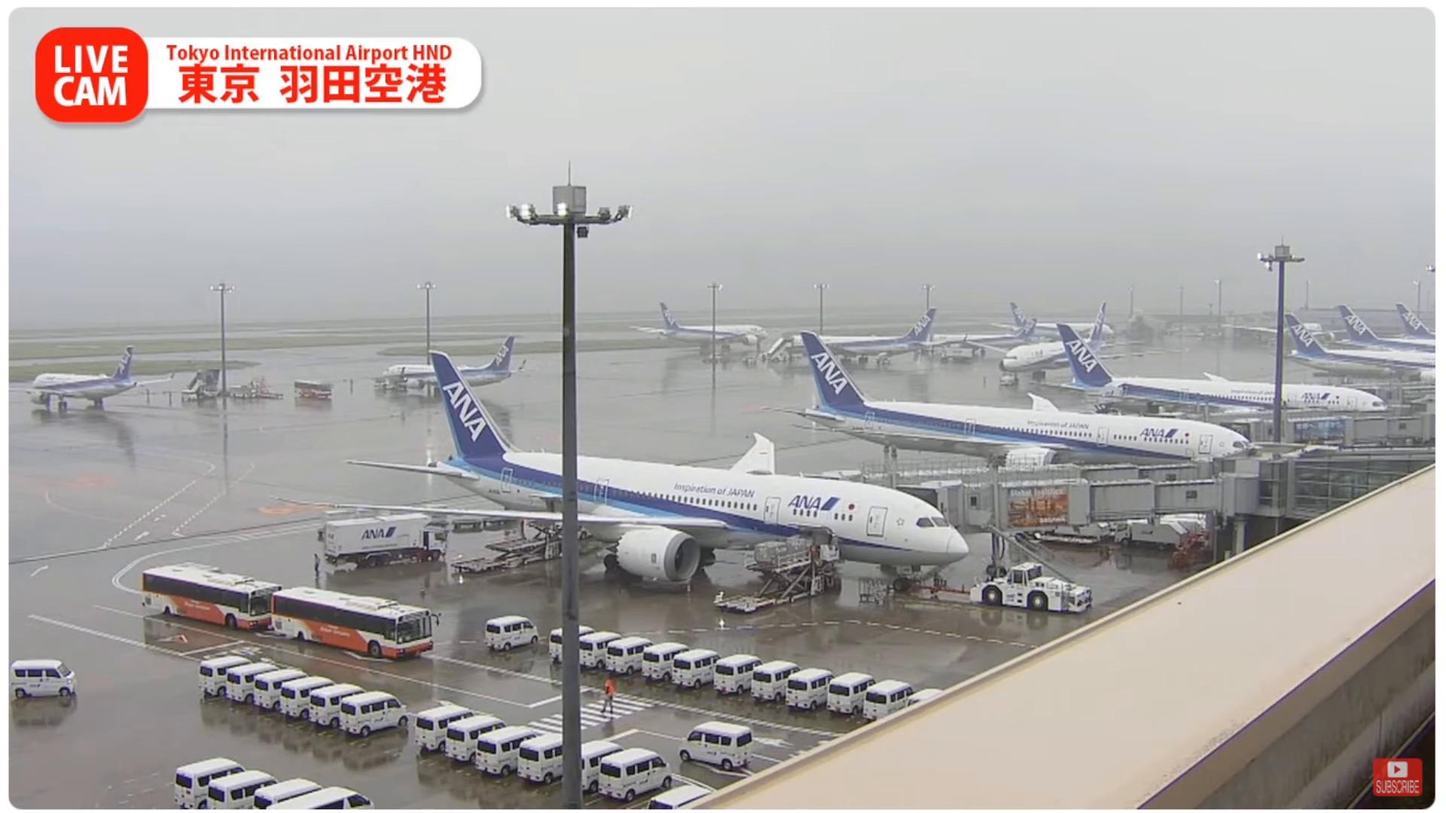APS: (969, 561, 1094, 613)
Aerobridge: (894, 451, 1258, 584), (795, 442, 1213, 488)
Airplane: (333, 353, 970, 591)
Catering: (325, 513, 447, 569)
JCPL: (710, 545, 834, 610), (452, 520, 562, 576)
ULD: (750, 541, 788, 569), (769, 536, 808, 563)
Window: (1295, 452, 1436, 515)
